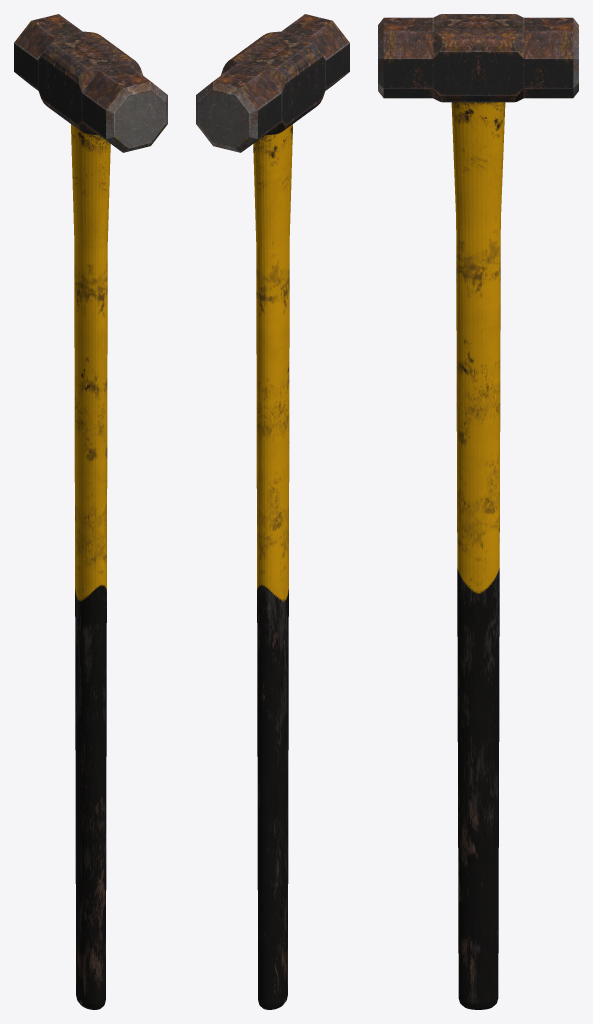
File: hammer_00.obj
The picture shows the model from 3 angles, left to right: view 1: azimuth 30°, elevation 25°; view 2: azimuth 150°, elevation 25°; view 3: azimuth 270°, elevation 25°; orthographic projection. The views are drawn at different scales.
Parts seen in each view (by area): view 1: Sledgehammer_0; view 2: Sledgehammer_0; view 3: Sledgehammer_0.
Boxes of the visible parts, box(x1,y1,x2,y2) form: Sledgehammer_0: box(14, 14, 167, 1009); Sledgehammer_0: box(196, 14, 349, 1009); Sledgehammer_0: box(378, 14, 578, 1009).
Bounding box in the file's own units: 0.0678 × 0.9983 × 0.1851.
1 material, 1 textured.
